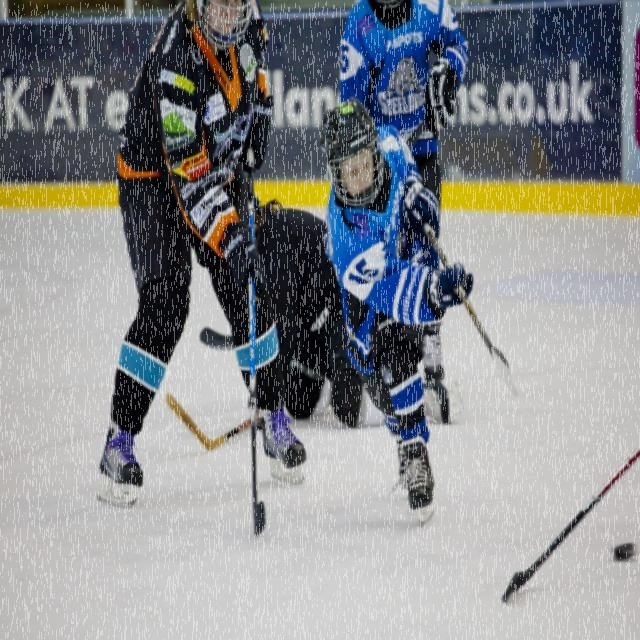pessoa: (313, 92, 478, 536), (334, 0, 471, 427), (466, 0, 626, 184), (252, 192, 364, 430), (0, 8, 120, 180), (262, 8, 338, 182)
